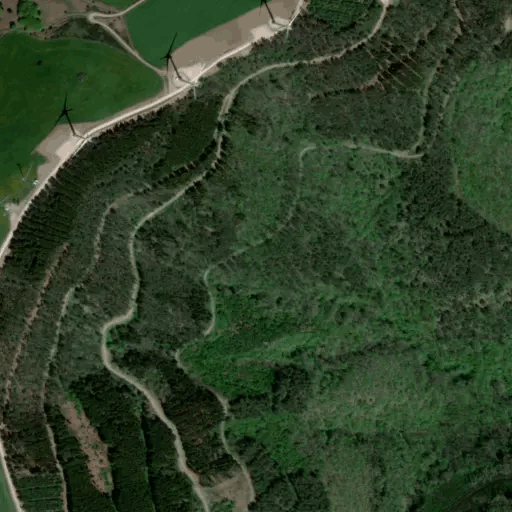wt: (147, 28, 211, 103), (46, 87, 102, 153), (253, 1, 276, 34)
